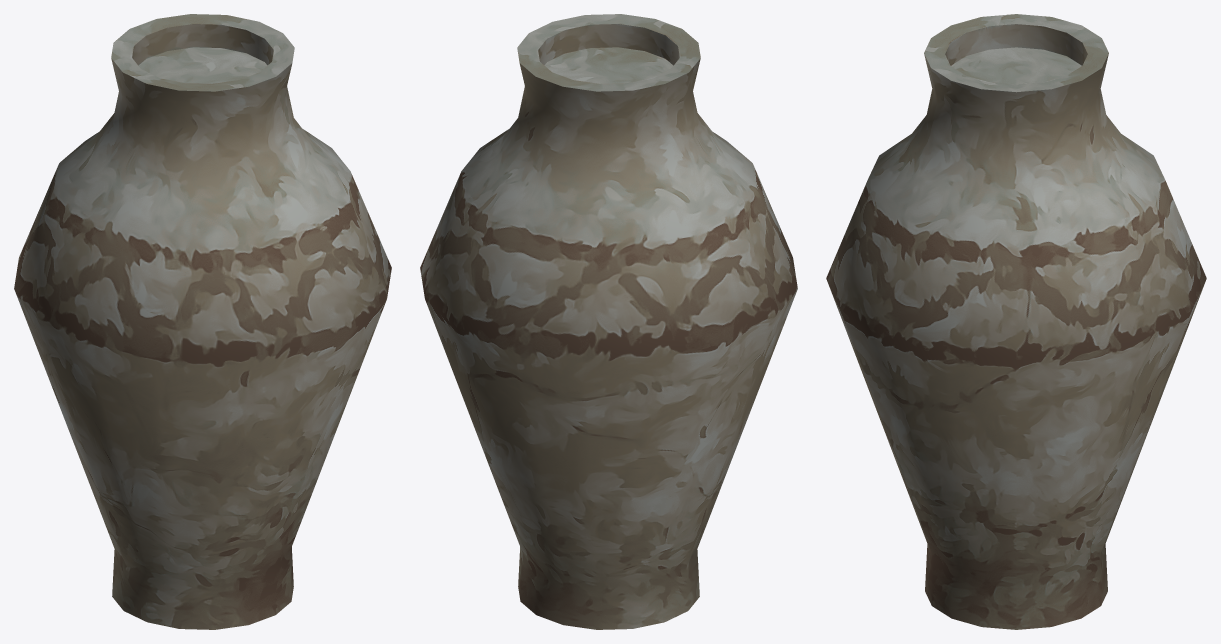
The model's file is waza_1.obj.
The picture shows the model from 3 angles, left to right: view 1: azimuth 30°, elevation 25°; view 2: azimuth 150°, elevation 25°; view 3: azimuth 270°, elevation 25°; orthographic projection.
Visible parts, largest first — view 1: Vert; view 2: Vert; view 3: Vert.
Part boxes in pixels (box(x1,y1,x2,y2)): Vert: box(14, 14, 391, 629); Vert: box(420, 14, 797, 629); Vert: box(826, 14, 1206, 629).
Size of the model in its own units: 7.04 by 10.98 by 7.04.
Materials: 1 (1 with a texture image).
